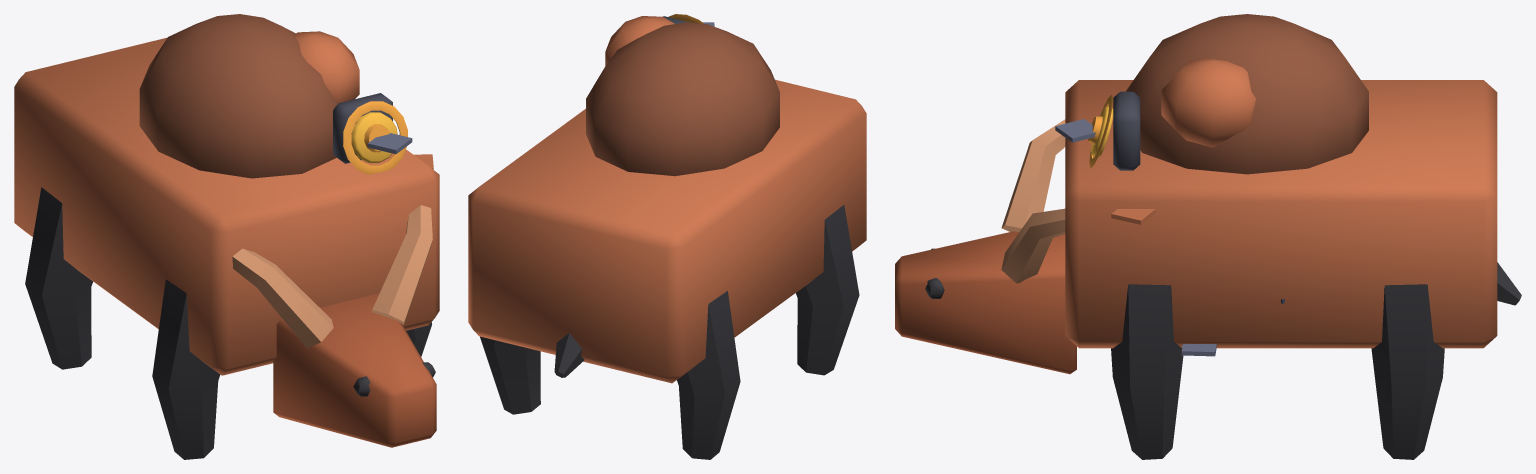
The model's file is boulder_ram.glb.
The picture shows the model from 3 angles, left to right: view 1: azimuth 30°, elevation 25°; view 2: azimuth 150°, elevation 25°; view 3: azimuth 270°, elevation 25°; orthographic projection. The views are drawn at different scales.
Parts seen in each view (by area): view 1: BoulderRam; view 2: BoulderRam; view 3: BoulderRam.
Boxes of the visible parts, x1,y1,x2,y2 form: BoulderRam: (14,14,439,459); BoulderRam: (468,14,866,459); BoulderRam: (895,14,1521,459).
Bounding box in the file's own units: 2.29 × 3 × 4.49.
1 material, 1 textured.
